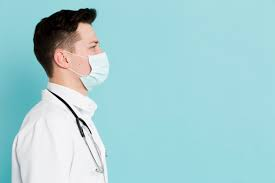with-mask: (33, 11, 114, 91)
